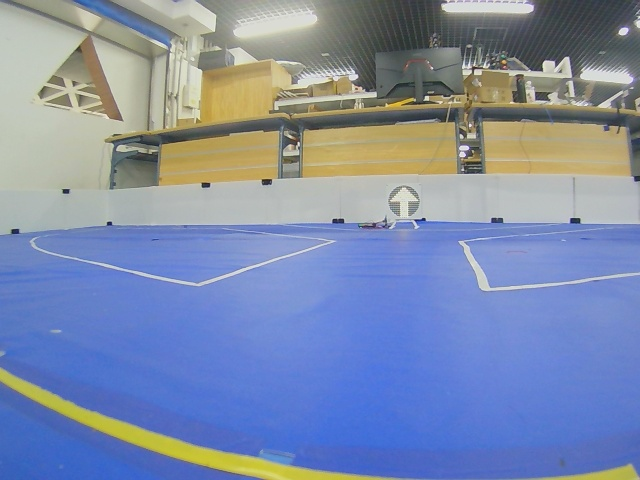straight_yellow: (388, 185, 420, 218)
